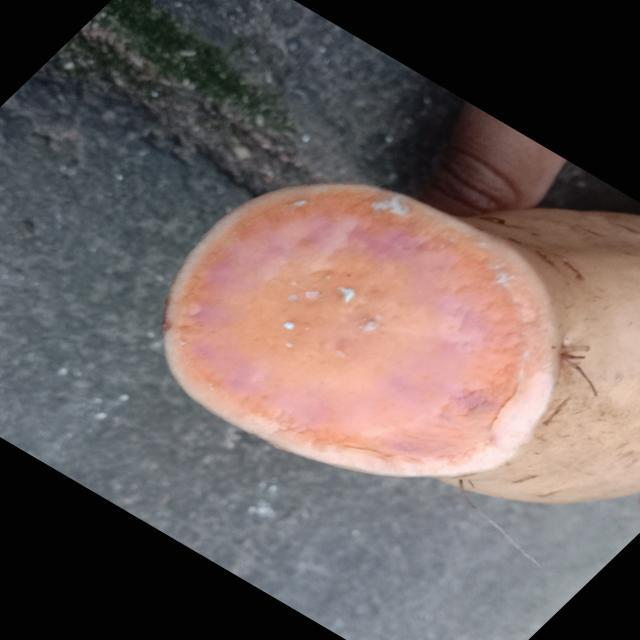Healthy Sweet Potato: (165, 185, 553, 476)
